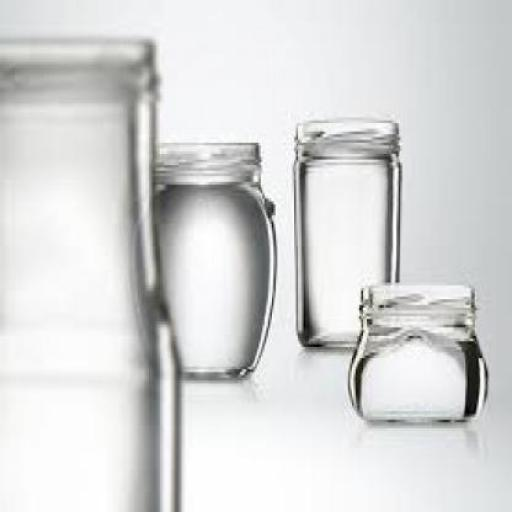glass: (0, 36, 178, 508), (150, 140, 272, 378), (292, 117, 398, 347), (346, 282, 486, 426)
